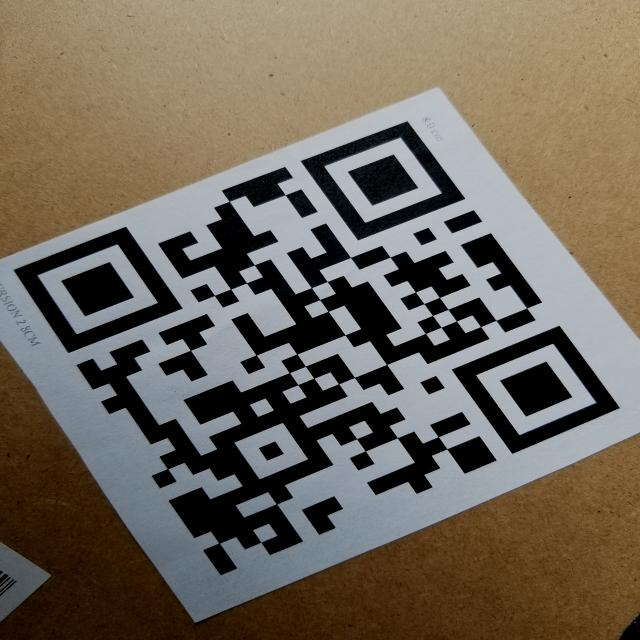QRCode: (9, 113, 636, 586)
